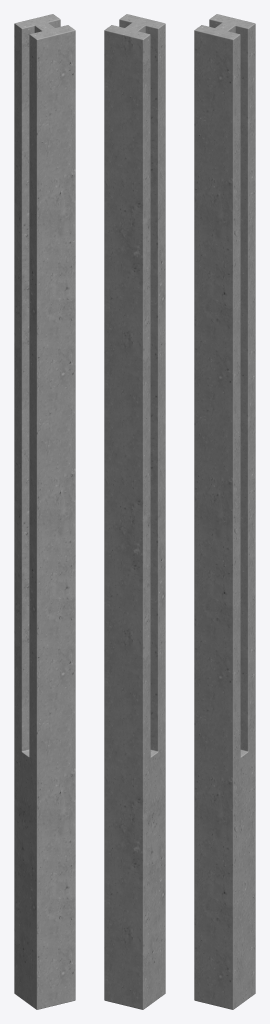
File: PillarSmooth22.glb
The picture shows the model from 3 angles, left to right: view 1: azimuth 30°, elevation 25°; view 2: azimuth 150°, elevation 25°; view 3: azimuth 330°, elevation 25°; orthographic projection.
Parts seen in each view (by area): view 1: Box003; view 2: Box003; view 3: Box003.
Boxes of the visible parts, bbox=[...] form: Box003: bbox=[14, 14, 75, 1009]; Box003: bbox=[104, 14, 165, 1009]; Box003: bbox=[194, 14, 255, 1009].
Size of the model in its own units: 0.12 by 2.85 by 0.12.
Materials: 1 (1 with a texture image).
